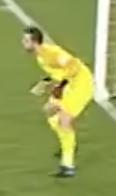goalkeeper: (6, 17, 116, 196)
